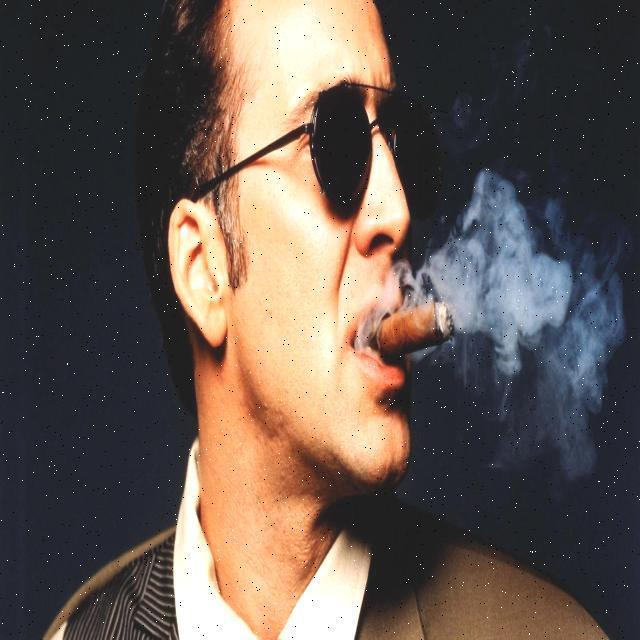smoke: (434, 184, 607, 402)
